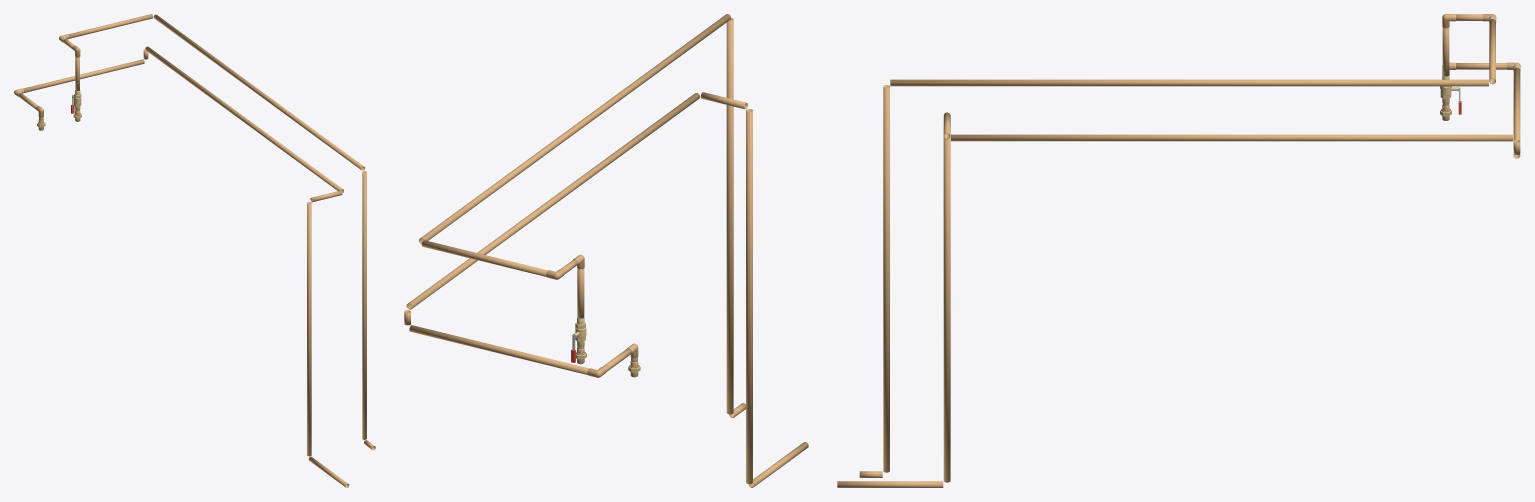
The model's file is slab_pipes_supply__water_heater-closet_gas_tank+closet_electric_tank_and_plumbing-copper__r4y.glb.
The picture shows the model from 3 angles, left to right: view 1: azimuth 30°, elevation 25°; view 2: azimuth 150°, elevation 25°; view 3: azimuth 270°, elevation 25°; orthographic projection. The views are drawn at different scales.
Parts seen in each view (by area): view 1: pipe_supply_hot_wh_closet__copper, pipe_supply_cold_wh_closet__copper; view 2: pipe_supply_hot_wh_closet__copper, pipe_supply_cold_wh_closet__copper; view 3: pipe_supply_hot_wh_closet__copper, pipe_supply_cold_wh_closet__copper.
Part boxes in pixels (box(x1,y1,x2,y2)): pipe_supply_hot_wh_closet__copper: box(18, 46, 349, 487); pipe_supply_cold_wh_closet__copper: box(63, 14, 375, 450); pipe_supply_hot_wh_closet__copper: box(404, 92, 808, 487); pipe_supply_cold_wh_closet__copper: box(419, 14, 745, 417); pipe_supply_hot_wh_closet__copper: box(837, 63, 1520, 487); pipe_supply_cold_wh_closet__copper: box(859, 14, 1495, 477).
Size of the model in its own units: 0.7379 by 1.57 by 2.25.
